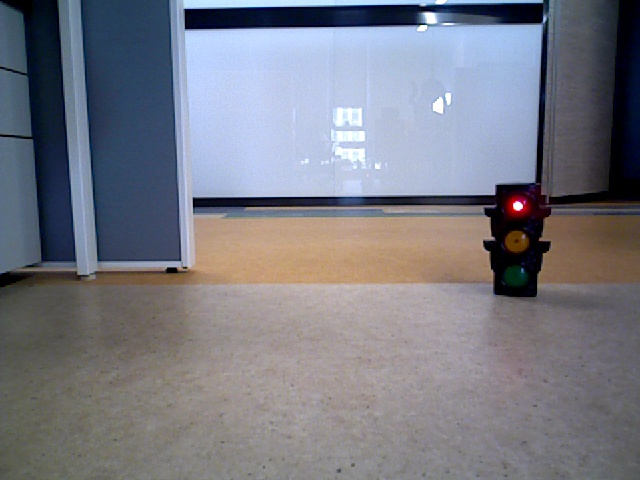red: (491, 185, 538, 291)
